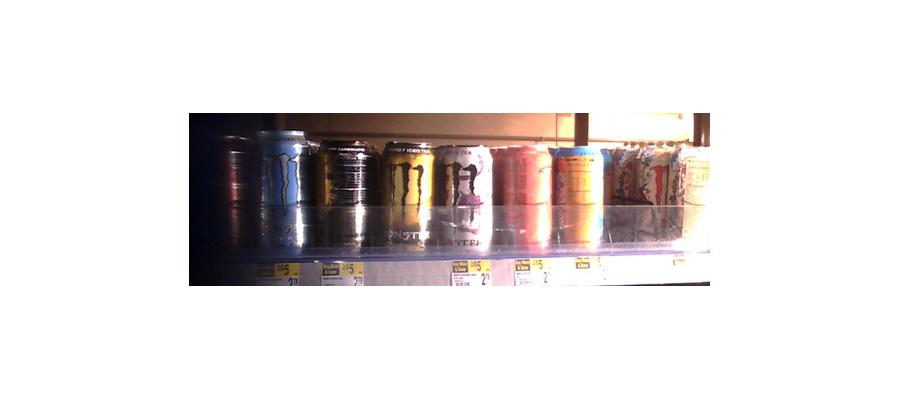bottle: (257, 126, 315, 265), (202, 123, 253, 256), (610, 140, 666, 249), (439, 144, 491, 257), (319, 141, 369, 256), (500, 144, 551, 253), (381, 144, 434, 248), (555, 145, 605, 252), (670, 141, 715, 240)
